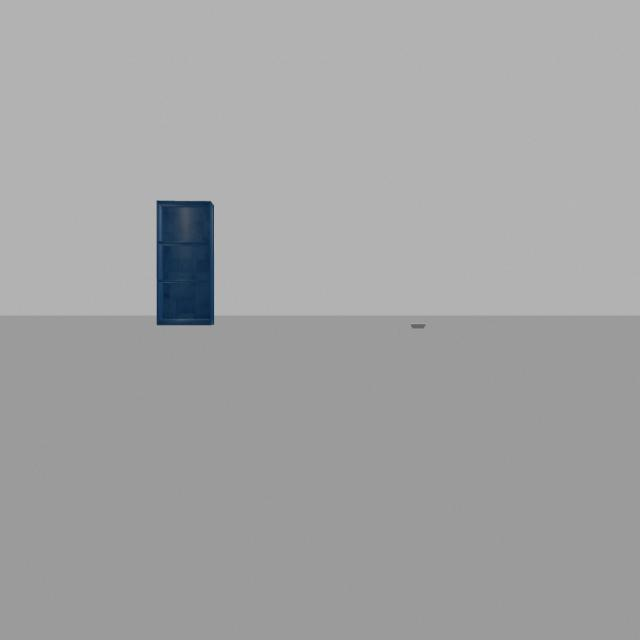bowl: (408, 316, 430, 339)
shelf: (147, 188, 224, 336)
